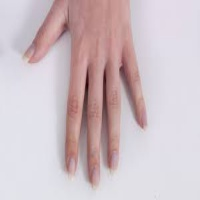ring: (104, 71, 126, 175)
